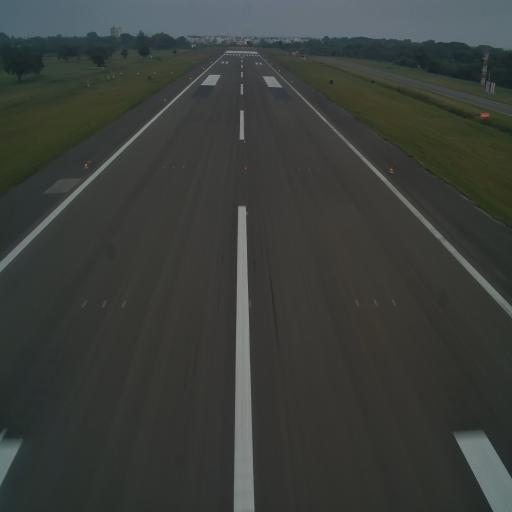off: (80, 296, 90, 312), (98, 296, 109, 310), (372, 293, 381, 310), (120, 295, 128, 312), (353, 296, 362, 310), (389, 298, 396, 310), (296, 165, 302, 174), (180, 164, 186, 172), (306, 166, 312, 174), (170, 164, 175, 172), (316, 166, 320, 176), (161, 164, 166, 170), (315, 100, 318, 108), (188, 120, 192, 126), (291, 123, 294, 129), (279, 123, 282, 128), (196, 120, 198, 126), (202, 121, 204, 125), (285, 123, 287, 127)
on: (247, 296, 253, 310), (244, 206, 250, 220), (388, 164, 395, 175), (242, 164, 248, 174), (83, 161, 88, 171), (162, 96, 167, 104), (243, 137, 246, 145), (243, 122, 245, 128)
